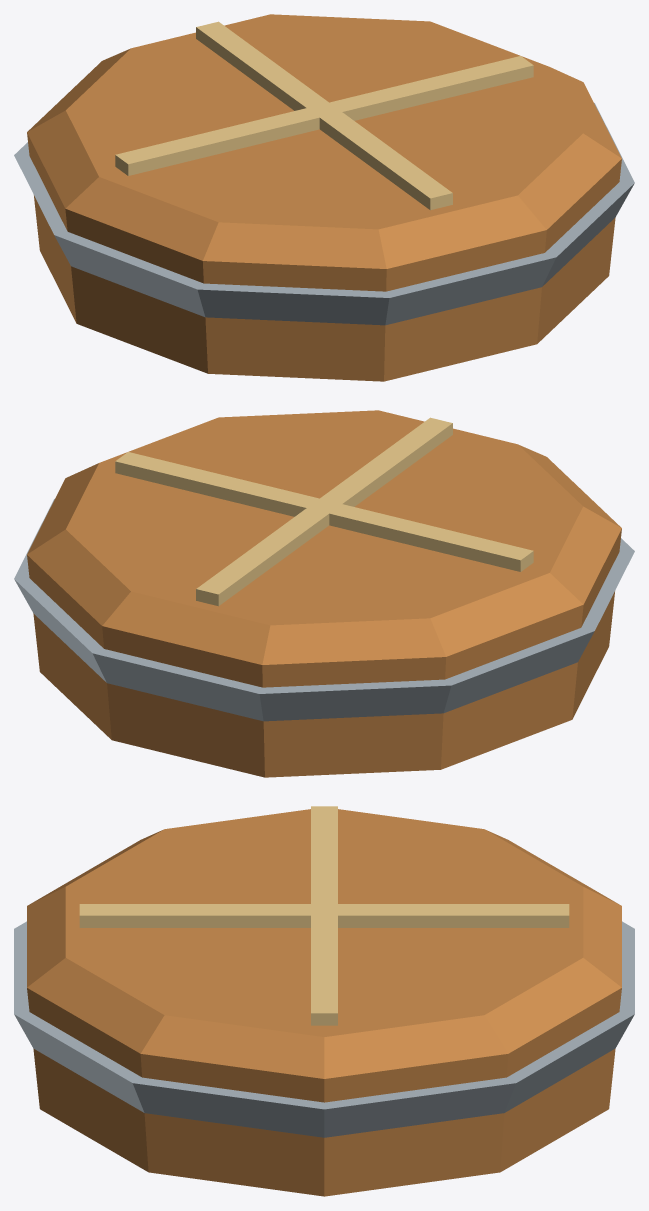
Rendered from FD_Pie_01.glb.
3 views of the same model, one above another, from view 1: azimuth 30°, elevation 25°; view 2: azimuth 150°, elevation 25°; view 3: azimuth 270°, elevation 25° (orthographic). The views are drawn at different scales.
Visible parts, largest first — view 1: FD_Pie_01; view 2: FD_Pie_01; view 3: FD_Pie_01.
Boxes of the visible parts, x1,y1,x2,y2 form: FD_Pie_01: [14, 14, 634, 381]; FD_Pie_01: [14, 410, 634, 777]; FD_Pie_01: [14, 806, 634, 1196].
Size of the model in its own units: 0.24 by 0.065 by 0.2283.
1 material, 1 textured.
